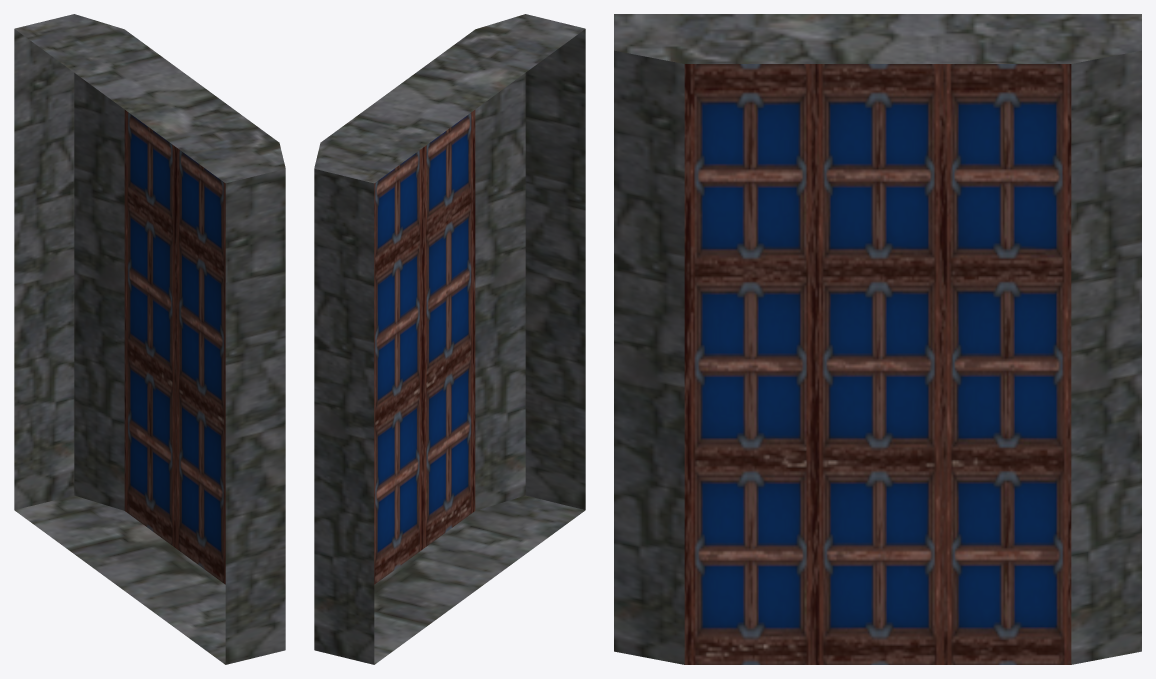
Rendered from Window_glass.gltf.
The picture shows the model from 3 angles, left to right: view 1: azimuth 30°, elevation 25°; view 2: azimuth 150°, elevation 25°; view 3: azimuth 270°, elevation 25°; orthographic projection. The views are drawn at different scales.
Parts seen in each view (by area): view 1: Window_glass; view 2: Window_glass; view 3: Window_glass.
Boxes of the visible parts, x1,y1,x2,y2 form: Window_glass: [14, 14, 285, 664]; Window_glass: [314, 14, 585, 664]; Window_glass: [614, 14, 1141, 664].
Size of the model in its own units: 0.2562 by 1.43 by 1.14.
